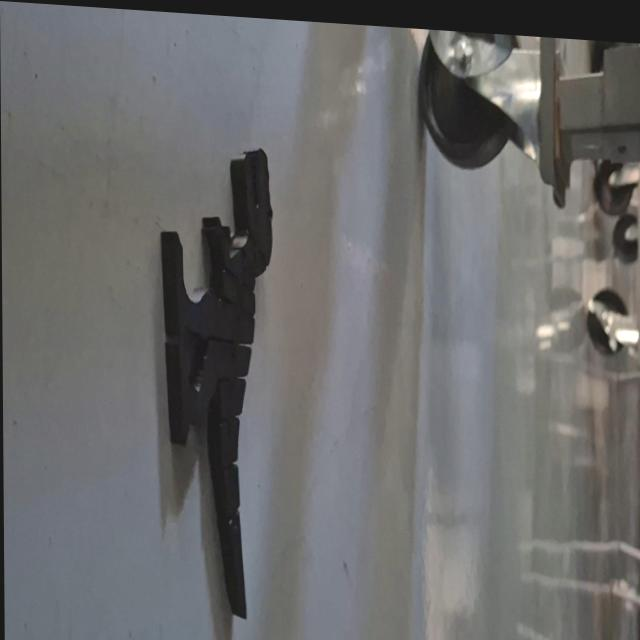dino: (158, 138, 278, 622)
